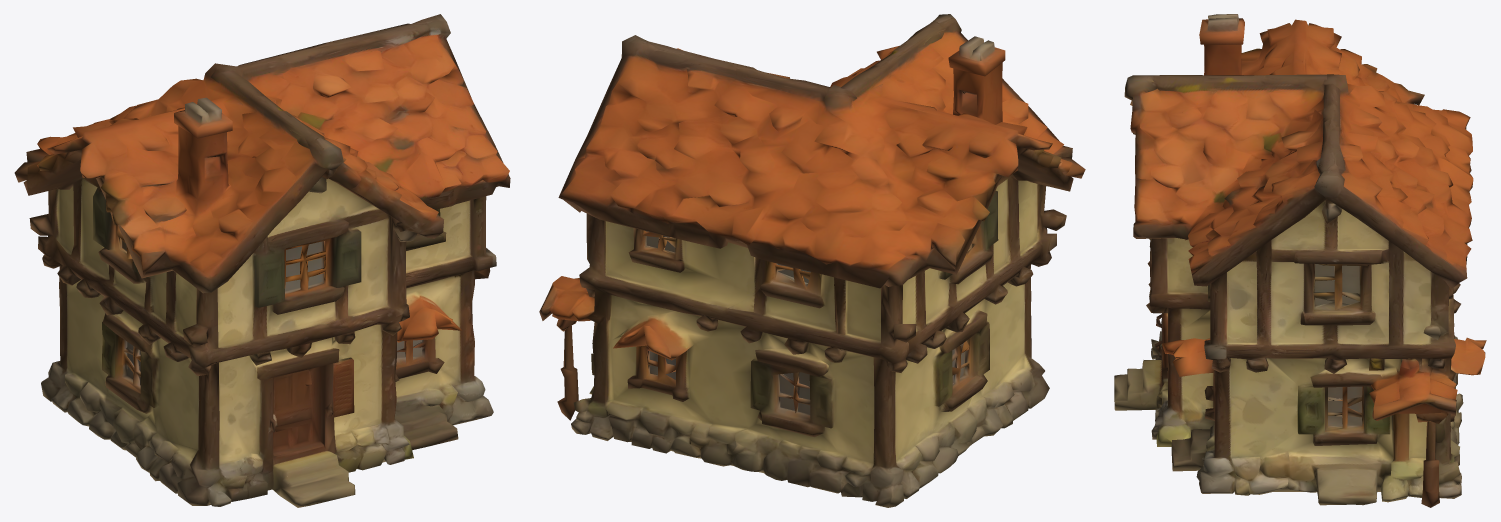
File: tripo_corner_townhouse.glb
3 views of the same model, side by side, from view 1: azimuth 30°, elevation 25°; view 2: azimuth 150°, elevation 25°; view 3: azimuth 270°, elevation 25° (orthographic). The views are drawn at different scales.
Parts seen in each view (by area): view 1: corner_townhouse; view 2: corner_townhouse; view 3: corner_townhouse.
Part boxes in pixels (bbox=[...]): corner_townhouse: bbox=[14, 14, 510, 507]; corner_townhouse: bbox=[539, 14, 1085, 507]; corner_townhouse: bbox=[1114, 14, 1486, 507].
Size of the model in its own units: 10.86 by 9 by 8.68.
1 material, 1 textured.
